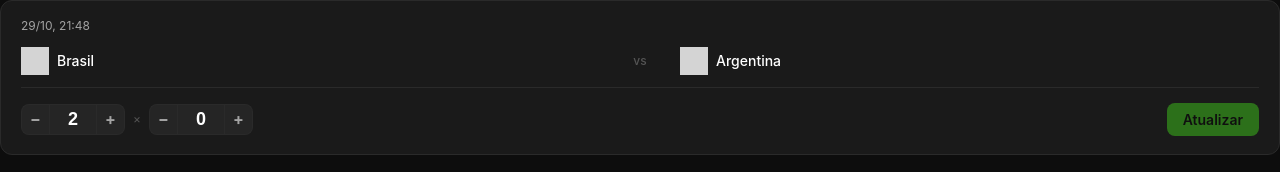
Test: MatchCard – Stepper "−" › decrements from 2 to 1 when "−" is clicked
Click the button named "Diminuir placar Brasil" at (35, 119), box 21,104 -> 49,134
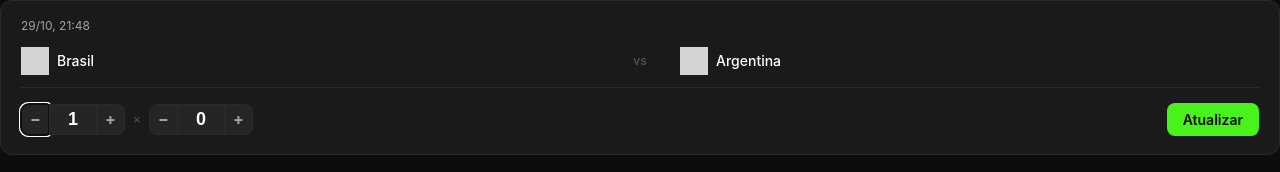
Check: the number field named "Placar Brasil" holds "1", box 49,104 -> 97,134
